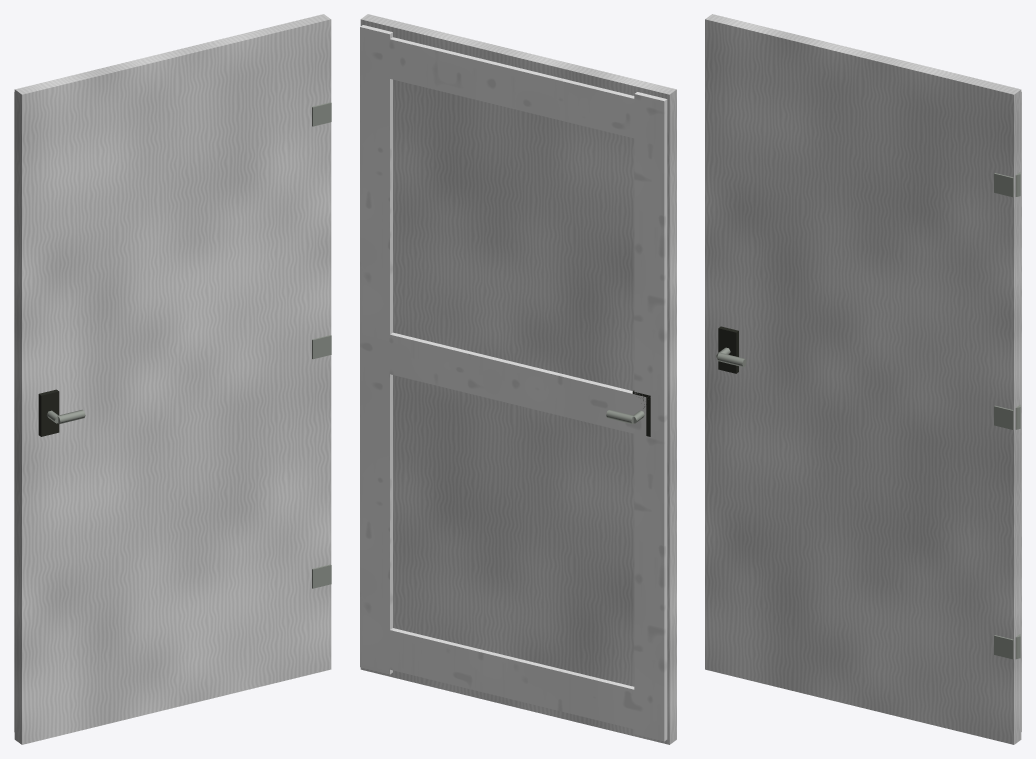
Rendered from SM_FieldStation_Hut_Door_LOD2.glb.
3 views of the same model, side by side, from view 1: azimuth 30°, elevation 25°; view 2: azimuth 150°, elevation 25°; view 3: azimuth 330°, elevation 25° (orthographic).
Parts seen in each view (by area): view 1: SM_FieldStation_Hut_Door_LOD2; view 2: SM_FieldStation_Hut_Door_LOD2; view 3: SM_FieldStation_Hut_Door_LOD2.
Part boxes in pixels (x1,y1,x2,y2): SM_FieldStation_Hut_Door_LOD2: (14,14,331,744); SM_FieldStation_Hut_Door_LOD2: (360,14,676,744); SM_FieldStation_Hut_Door_LOD2: (705,14,1021,744).
Bounding box in the file's own units: 0.989 × 1.97 × 0.184.
4 materials, 2 textured.
